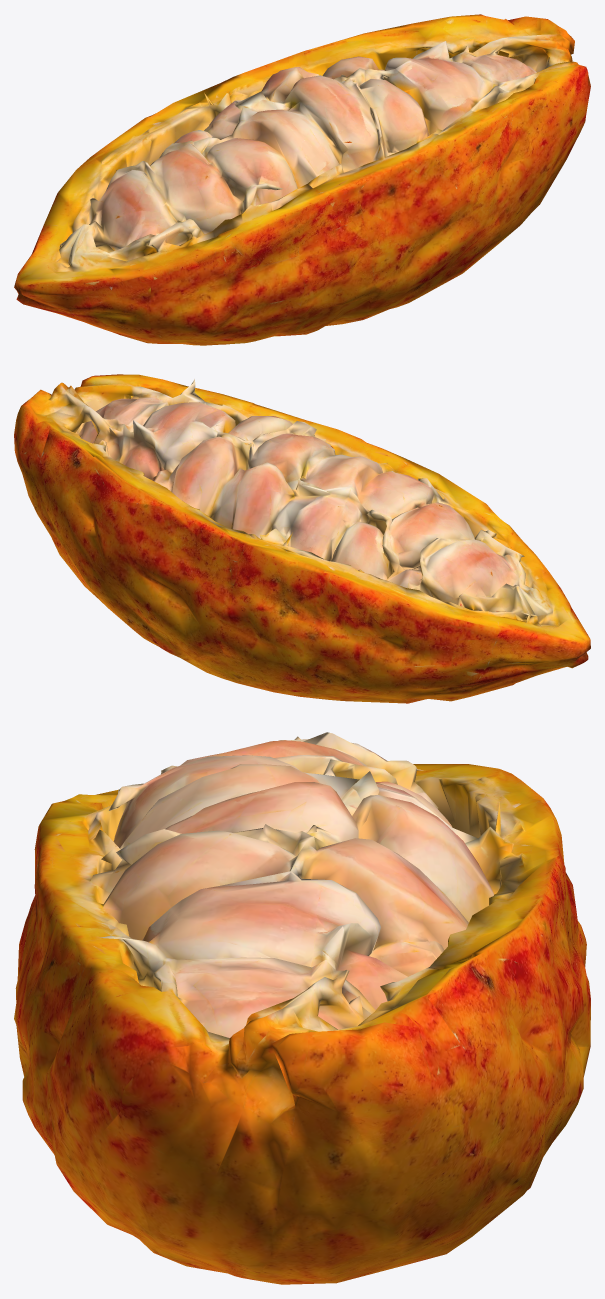
File: open-cacao-pod.glb
The picture shows the model from 3 angles, top to bottom: view 1: azimuth 30°, elevation 25°; view 2: azimuth 150°, elevation 25°; view 3: azimuth 270°, elevation 25°; orthographic projection. The views are drawn at different scales.
Bounding box in the file's own units: 1.9 × 0.7335 × 0.8862.
Materials: 1 (1 with a texture image).
